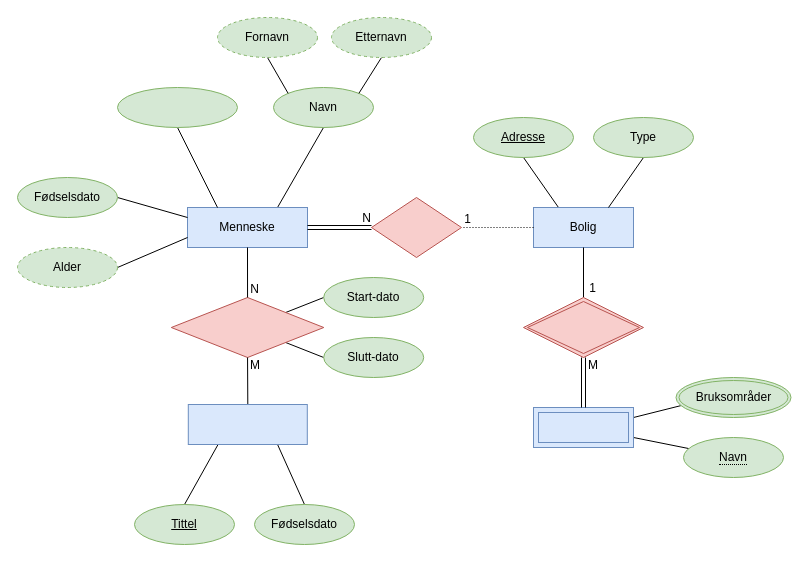
Image size: 809x562. Some labels were removed from this diagram. The centre of each missing label's shape, as x and y in pixels:
"Boskap" belongs at point (416, 227).
"Har rom" belongs at point (583, 327).
"Personnummer" belongs at point (177, 107).
"Rom" belongs at point (583, 427).
"Utfører" belongs at point (247, 327).
"Yrke" belongs at point (247, 424).
